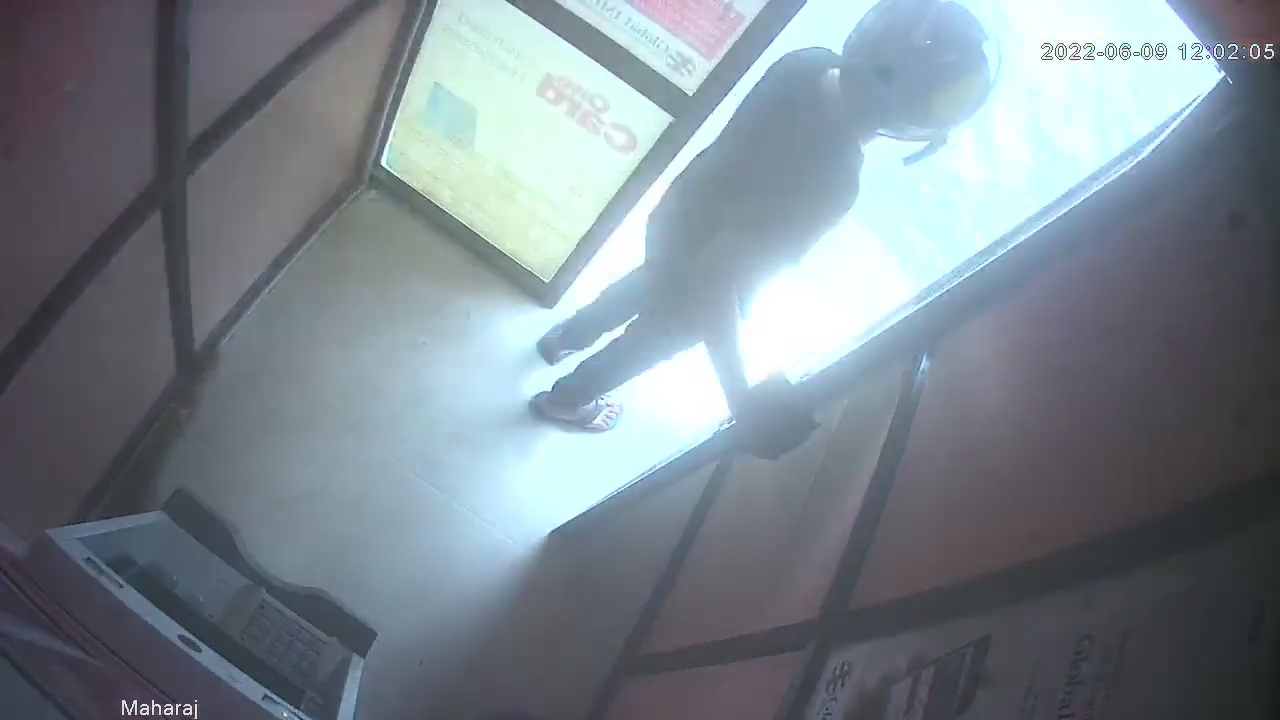helmet: (833, 1, 1004, 159)
person: (524, 1, 1007, 460)
